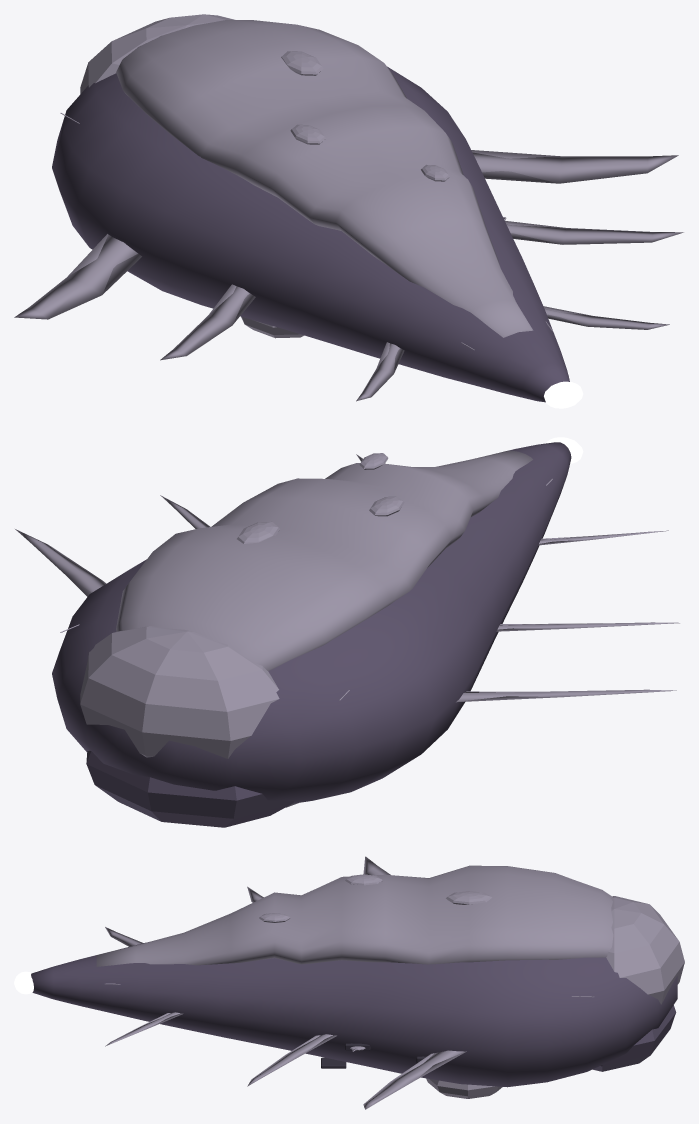
3 views of the same model, one above another, from view 1: azimuth 30°, elevation 25°; view 2: azimuth 150°, elevation 25°; view 3: azimuth 270°, elevation 25° (orthographic). The views are drawn at different scales.
Parts seen in each view (by area): view 1: RIMWARD_HULL, RIMWARD_ENGINE_GLOW; view 2: RIMWARD_HULL; view 3: RIMWARD_HULL.
Boxes of the visible parts, x1=… form: RIMWARD_HULL: x1=14, y1=14, x2=683, y2=402; RIMWARD_ENGINE_GLOW: x1=544, y1=381, x2=583, y2=408; RIMWARD_HULL: x1=15, y1=442, x2=679, y2=827; RIMWARD_HULL: x1=31, y1=856, x2=684, y2=1109.
Bounding box in the file's own units: 76.01 × 29.07 × 84.91.
